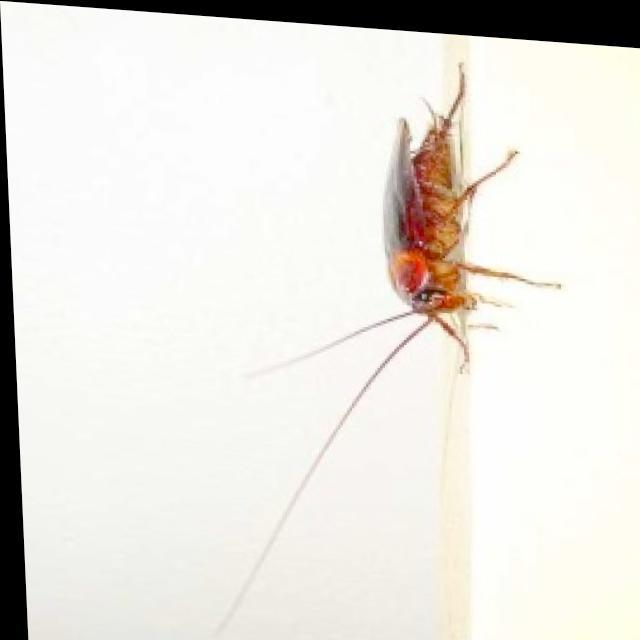cockroach: (338, 59, 567, 391)
